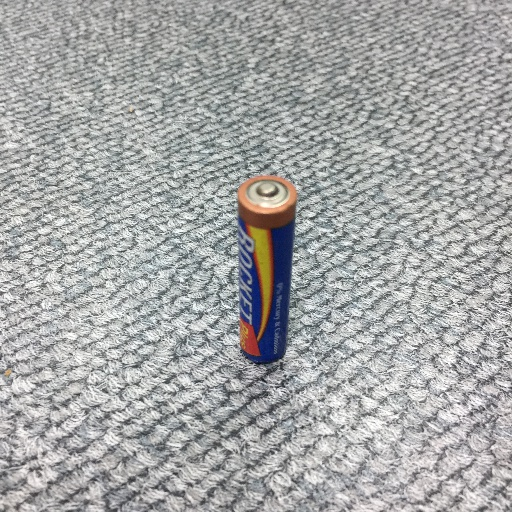Battery_0: (226, 168, 296, 367)
